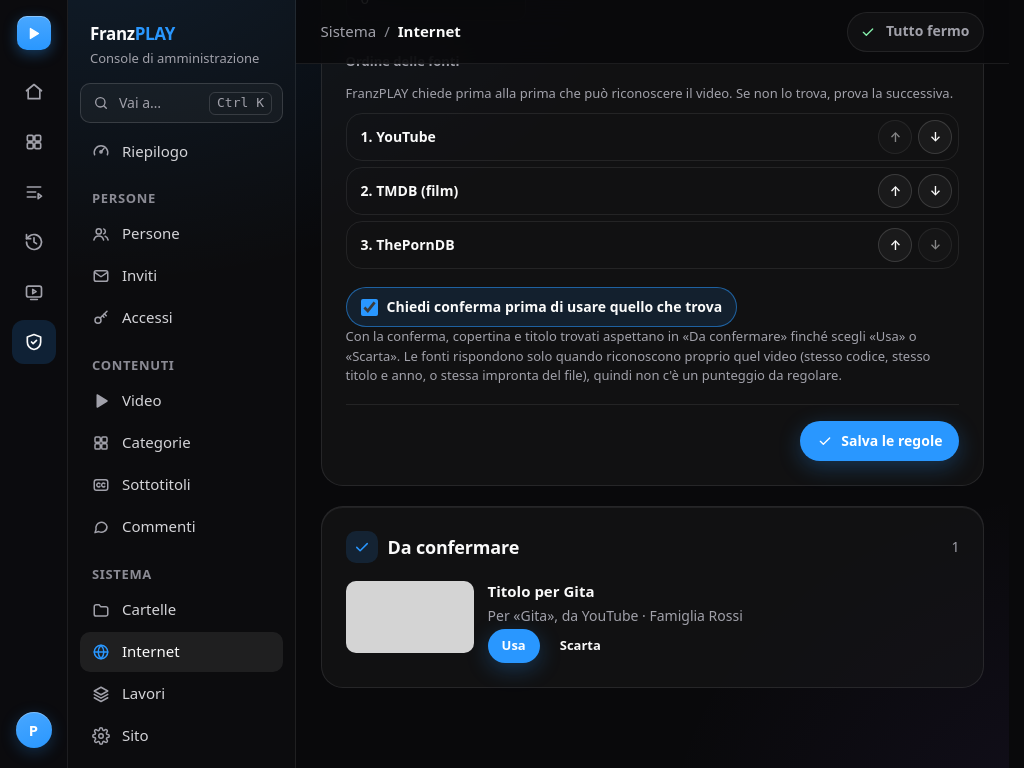
confirming what the internet found › says when the choice was not saved
(page scrolled)
What coordinates should you click on to do the following:
click the button with aria-label "Usa la proposta per Gita"
I would click on:
 (514, 646)
Its box is [488,629,540,663].
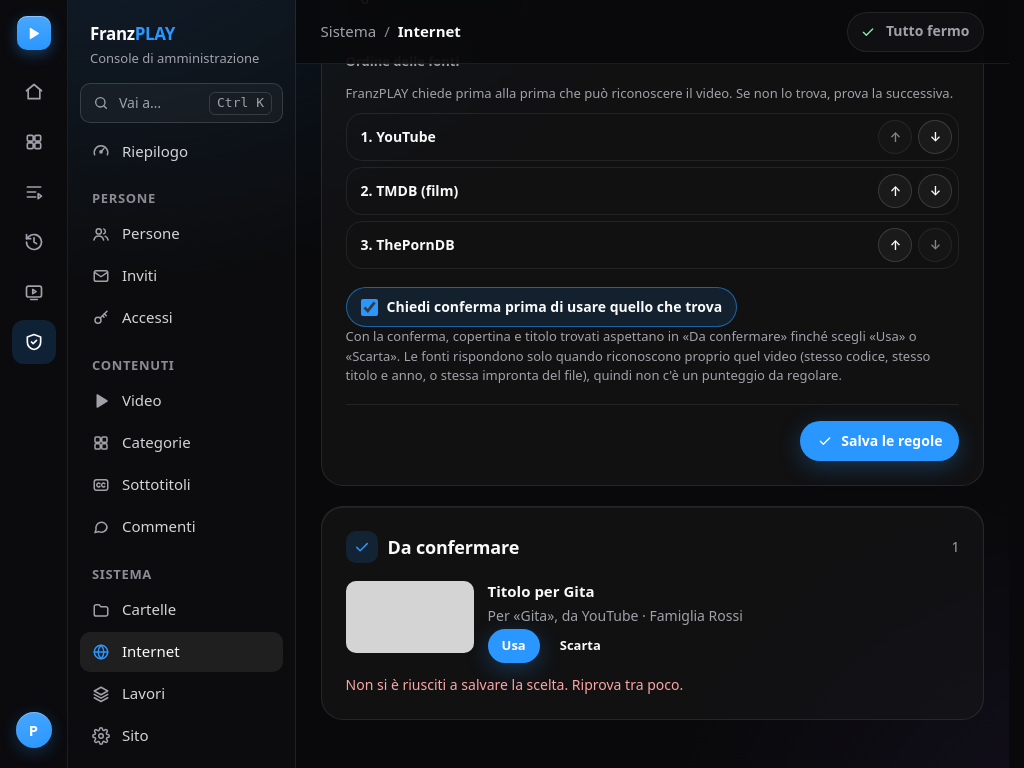
Expected: the text "Titolo per Gita" is shown, [488,581,594,601]
Expected: the message shows "Non si è riusciti", [346,675,683,694]
